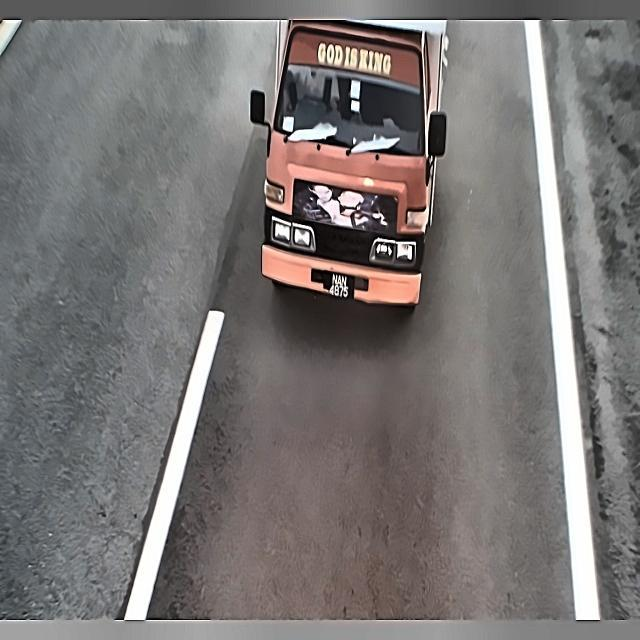car: (320, 263, 358, 305)
